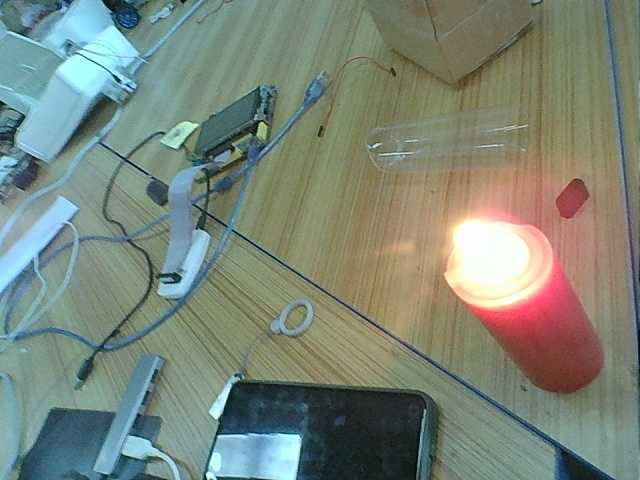candle: (461, 278, 607, 394)
fire: (429, 226, 550, 312)
